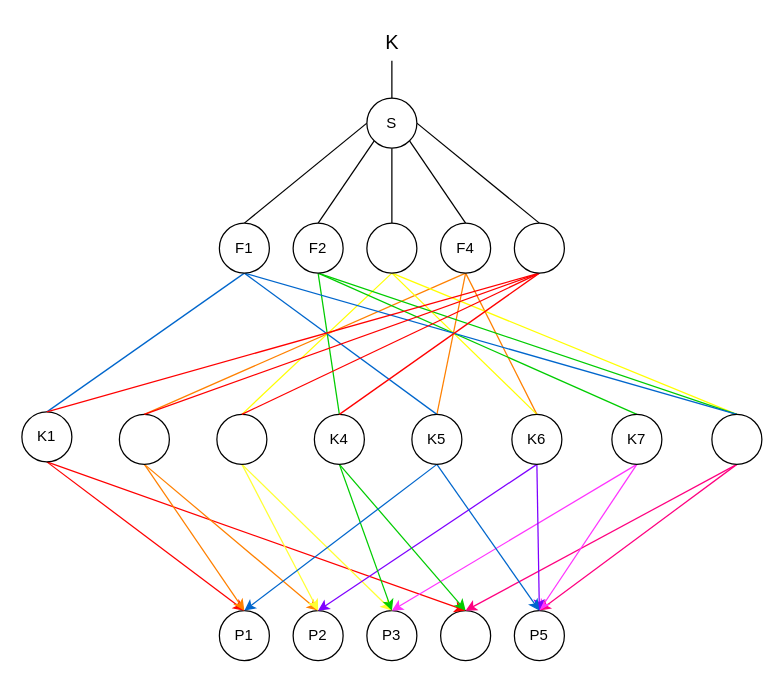
Some shapes in this 784 by 683 pixel diagram are drawn without their labels. Here are the shapes that lost their labels. From the top down, the centre of each, then its label:
[391,247]: F3
[538,247]: F5
[143,438]: K2
[241,438]: K3
[736,438]: K8
[465,635]: P4
